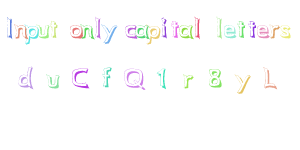1: (154, 66, 174, 92)
8: (203, 64, 226, 90)
C: (68, 65, 94, 90)
I: (2, 13, 14, 43)
L: (258, 64, 280, 91)
Q: (119, 66, 148, 92)
a: (179, 23, 194, 41), (137, 22, 148, 43)
c: (123, 21, 137, 43)
d: (17, 64, 37, 91)
e: (224, 22, 238, 42), (258, 22, 269, 41)
f: (99, 64, 116, 91)
i: (159, 14, 170, 43)
l: (193, 13, 204, 42), (93, 15, 103, 46), (213, 15, 224, 42)
n: (14, 17, 27, 42), (81, 19, 94, 44)
o: (69, 20, 83, 41)
p: (26, 21, 39, 46), (148, 23, 160, 48)
r: (179, 70, 195, 92), (269, 21, 280, 42)
s: (281, 21, 292, 41)
t: (49, 15, 61, 42), (169, 17, 181, 41), (248, 17, 257, 43), (237, 17, 246, 42)
u: (44, 67, 62, 91), (38, 22, 50, 42)
y: (233, 69, 253, 97), (102, 21, 118, 48)
